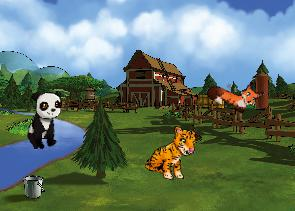fox: (204, 66, 266, 120)
panda: (26, 89, 63, 151)
tiger: (143, 121, 199, 184)
